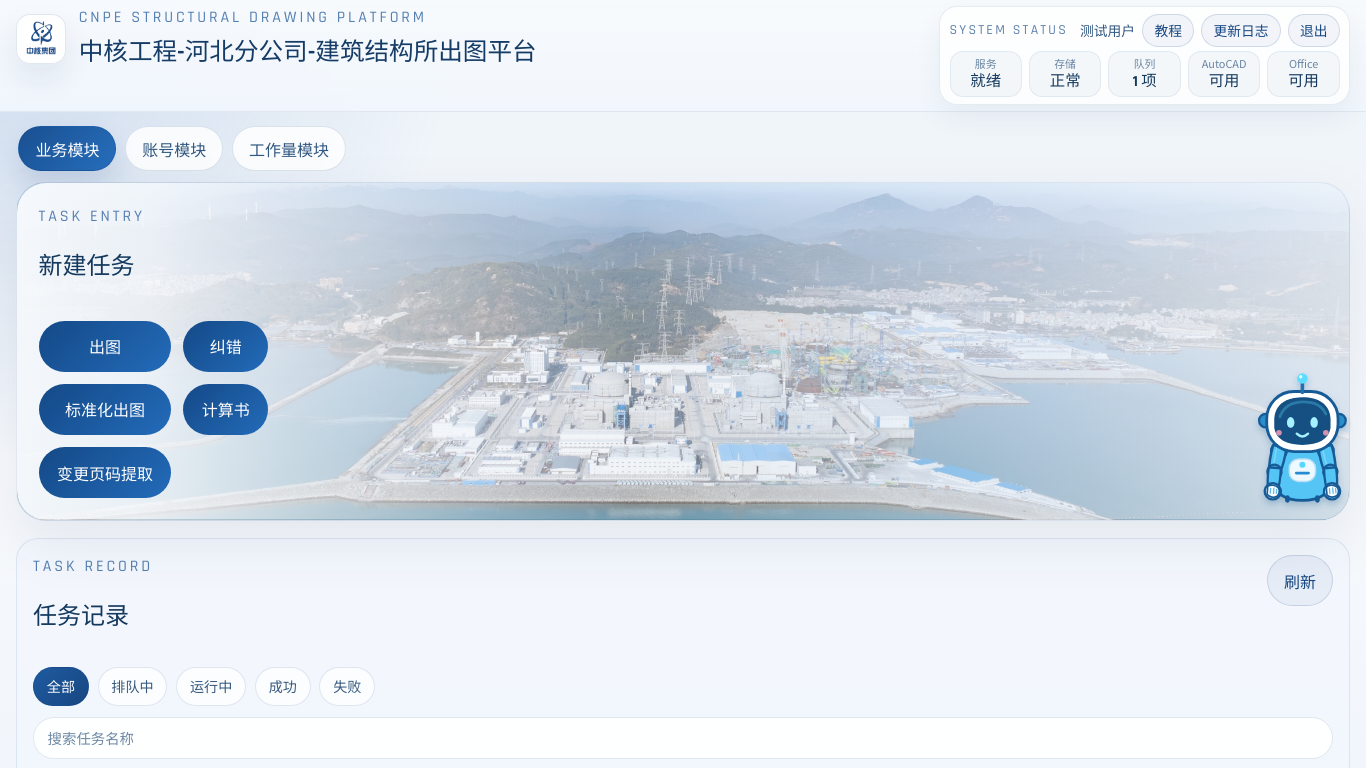
homepage shell › shows a user message and thinking state immediately and cancels the browser wait
Click the button named "打开 AI 助手" at (1302, 437), box [1248,369,1356,505]
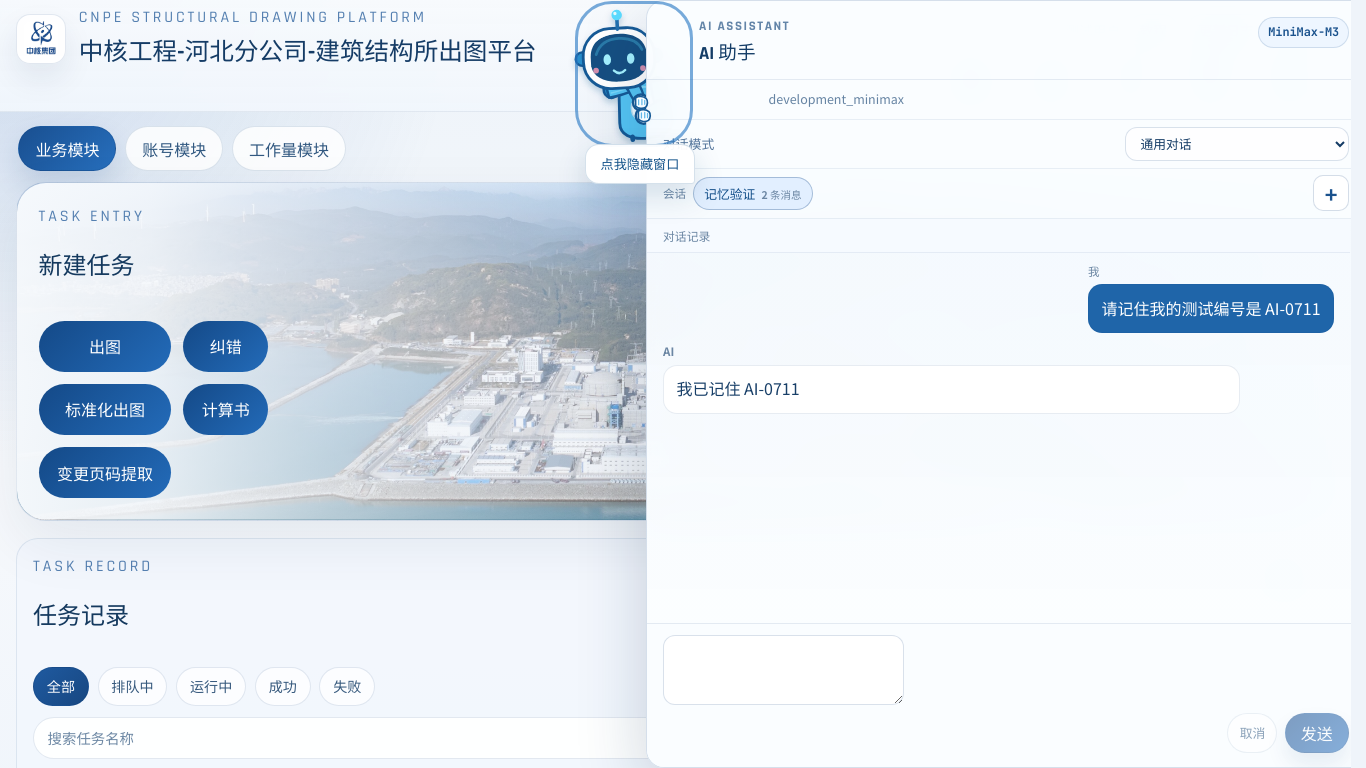
Type "请立即显示这条消息" into the text box named "输入 AI 对话内容" at (784, 670), box [663,635,904,705]
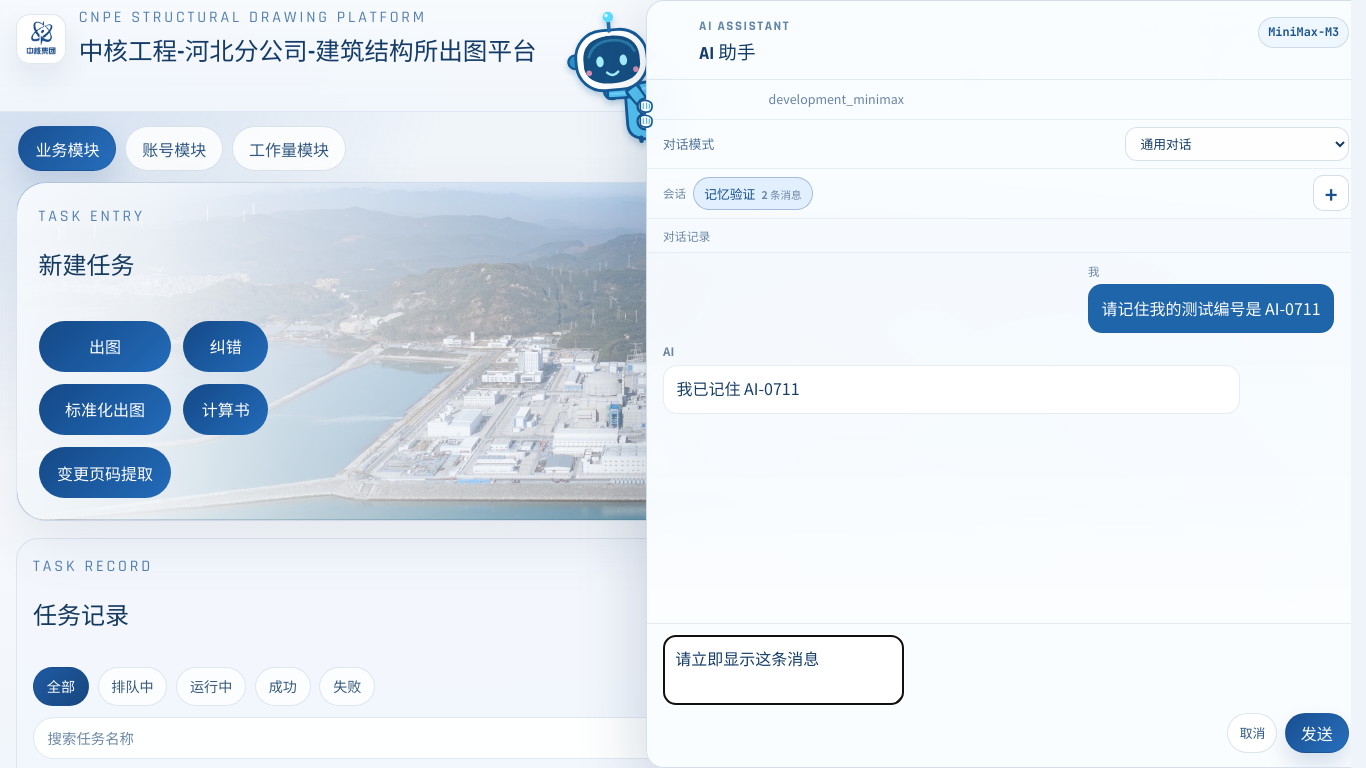
Click the button "发送" at (1317, 733), box [1285,713,1349,753]
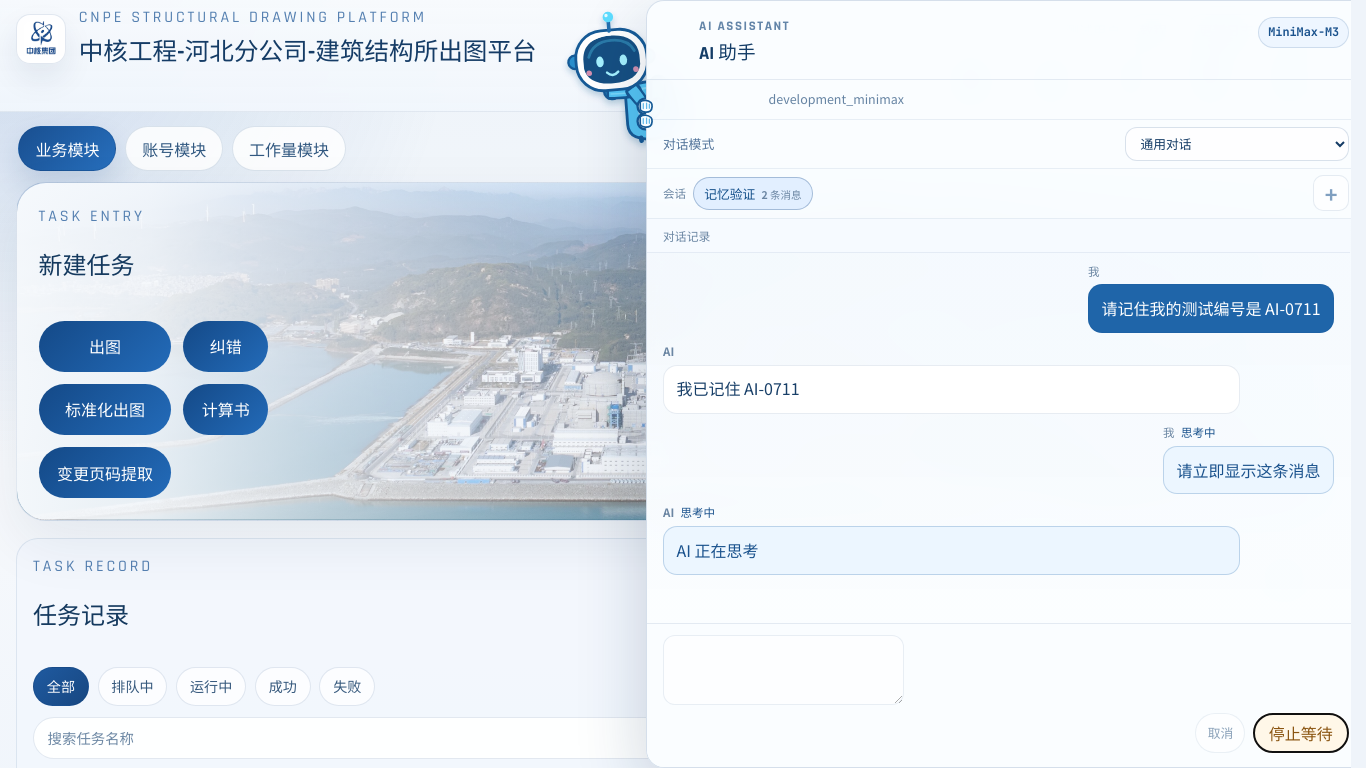
expect the text "请立即显示这条消息" is shown: met, box [1163,446,1334,494]
expect the text "AI 正在思考" is shown: met, box [663,526,1240,574]
Click the button "停止等待" at (1301, 733), box [1253,713,1349,753]
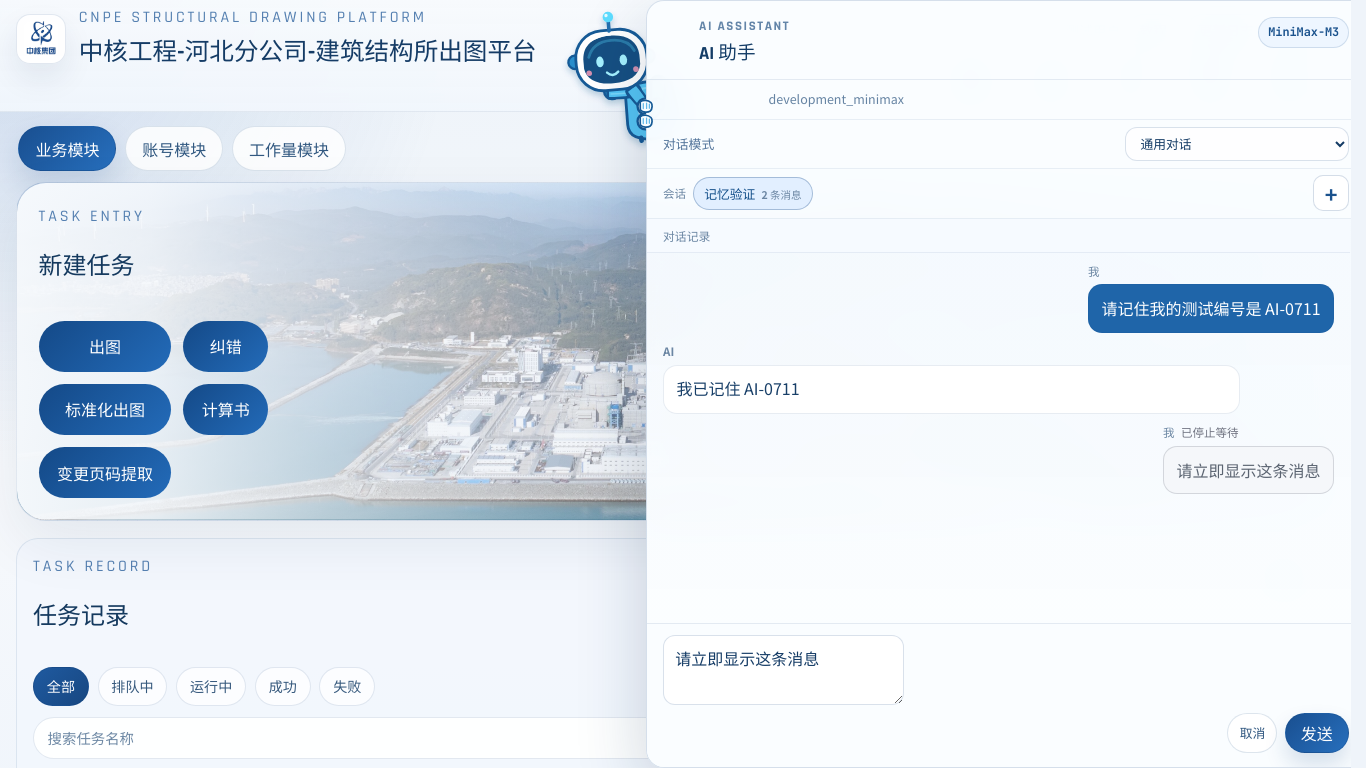
expect the text "AI 正在思考" is gone: met
expect the text "已停止等待" is shown: met, box [1181,424,1239,441]
expect the text box named "输入 AI 对话内容" is enabled: met, box [663,635,904,705]
